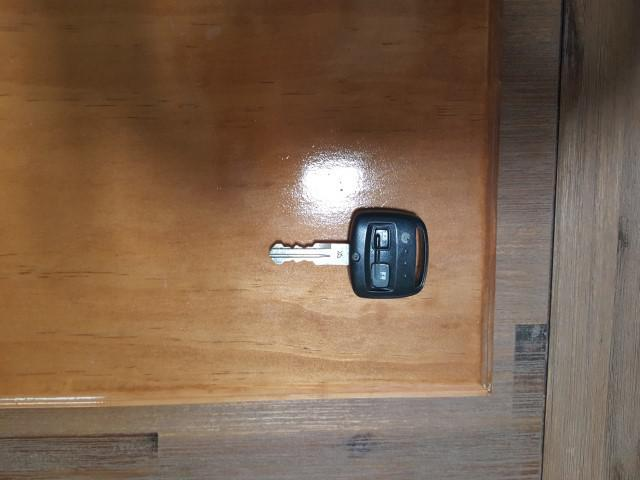key: (267, 211, 433, 433)
